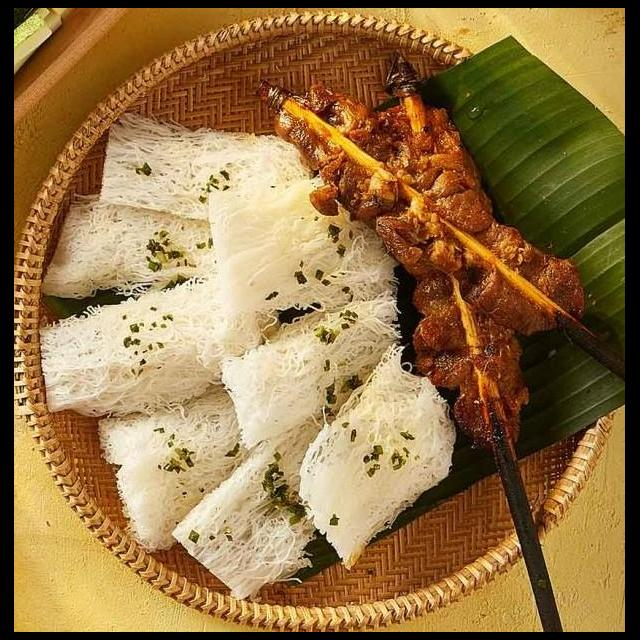banh hoi: (95, 366, 338, 559), (166, 397, 368, 607), (204, 166, 406, 372), (294, 338, 460, 575), (34, 267, 286, 419), (214, 287, 414, 458), (94, 107, 318, 232), (35, 183, 236, 309)
